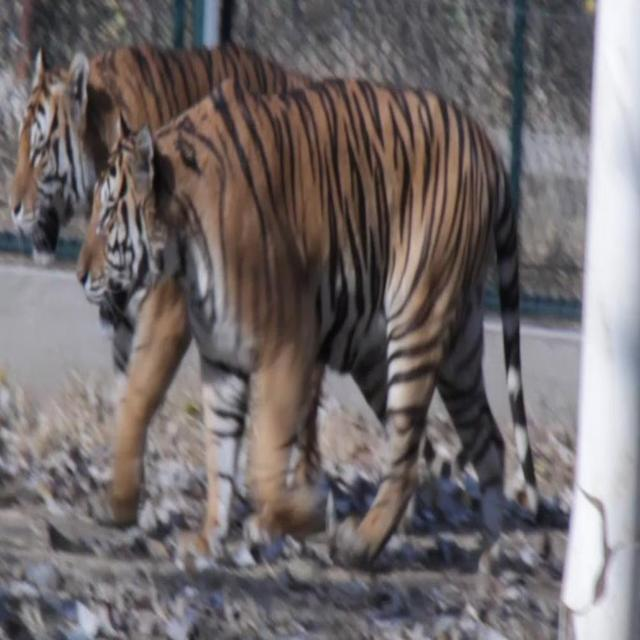tiger: (75, 72, 539, 574), (6, 40, 336, 542)
